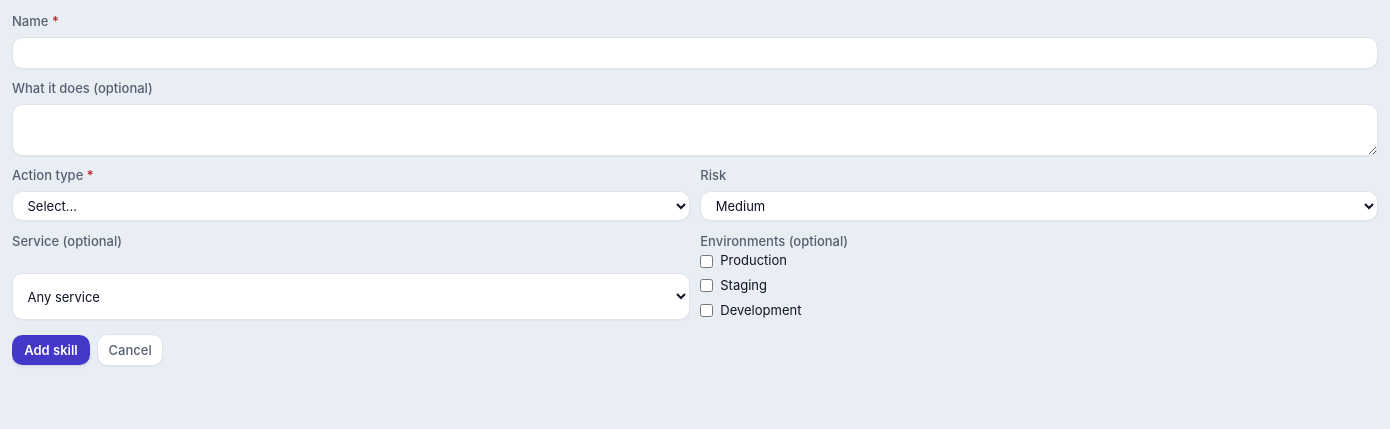
Test: SkillForm › warns, in a sentence, once such a type is chosen
Select "SQL — no executor" in the dropdown labelled "Action type *" at (351, 206), box [12,191,690,221]
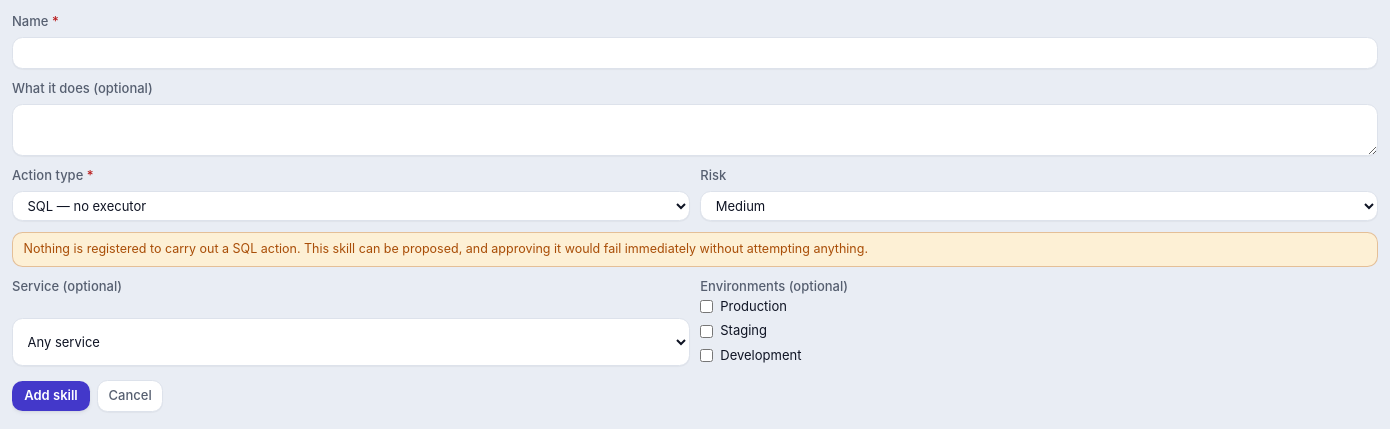
Expected: the text "approving it would fail immediately without attempting anything" is shown, [257,241,868,256]
